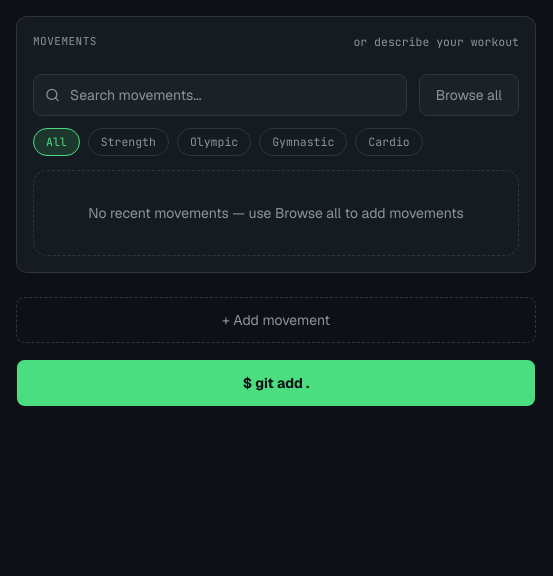
Test: LogPageClient — NL input toggle › Parse with AI button enables when textarea has enough text
This screenshot has width=553, height=576.
Click the button "or describe your workout".
click(436, 42)  # box x1=353 y1=33 x2=519 y2=50
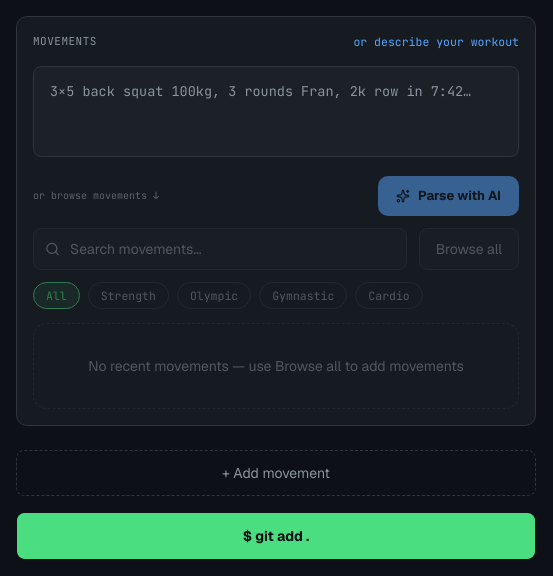
Type "3x5 back squat 100kg" into the text box with placeholder "3×5 back squat 100kg, 3 rounds Fran, 2k row in 7:42…".
click(276, 112); type("3x5 back squat 100kg")  # box x1=33 y1=66 x2=519 y2=157
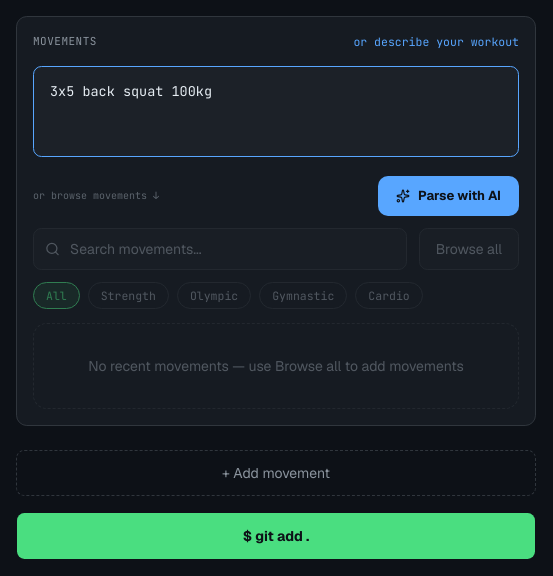
Expected: the button with test id "parse-with-ai-btn" is enabled, x1=378 y1=176 x2=519 y2=216
